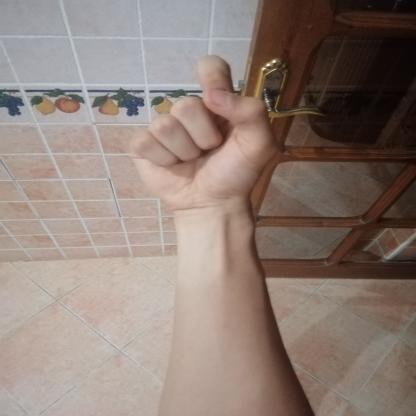FAA: (110, 46, 292, 218)
